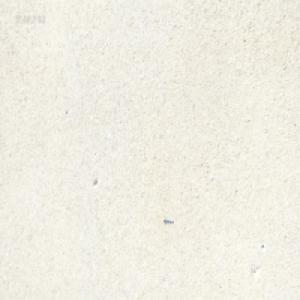Nail: (163, 217, 174, 225)
